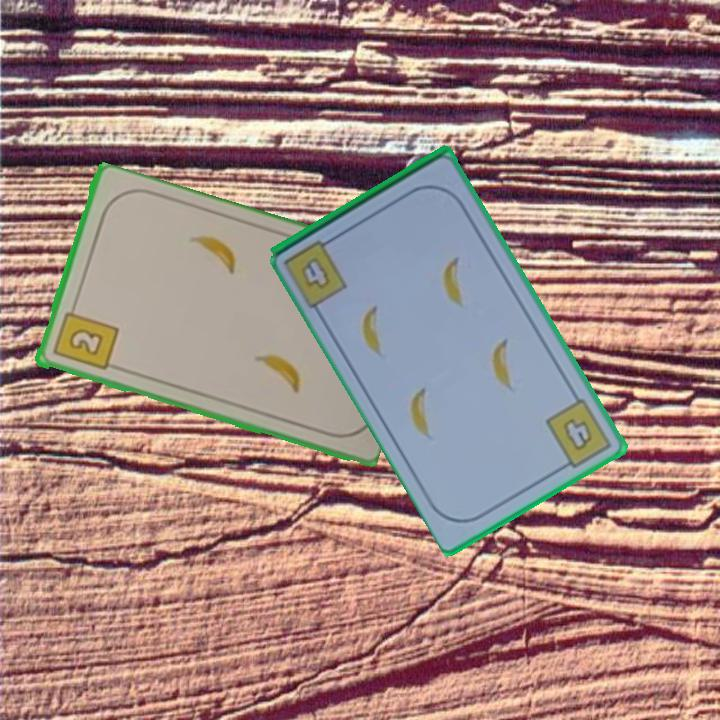2b: (49, 301, 120, 374)
4b: (542, 395, 615, 474), (297, 253, 334, 293)
